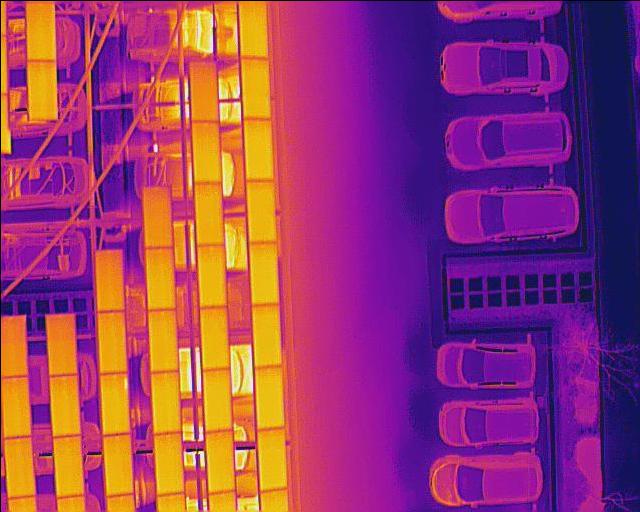Cell: (98, 372, 128, 433)
No-Anomaly: (45, 312, 76, 375), (239, 56, 270, 119), (3, 437, 34, 498), (242, 118, 272, 181), (141, 185, 171, 248), (248, 241, 277, 305), (95, 311, 125, 372), (196, 243, 225, 306), (48, 375, 78, 435), (256, 428, 285, 490), (193, 183, 222, 244), (236, 0, 267, 57), (154, 432, 182, 495), (199, 307, 228, 367), (254, 368, 283, 428), (26, 59, 55, 119), (192, 120, 220, 182), (252, 304, 280, 366), (245, 180, 273, 241), (95, 249, 123, 310), (202, 369, 230, 430), (205, 431, 233, 492), (103, 434, 131, 495), (188, 60, 216, 121), (145, 247, 172, 310), (24, 1, 53, 59), (148, 309, 175, 371), (151, 373, 179, 432), (53, 437, 81, 496), (2, 376, 28, 437)
